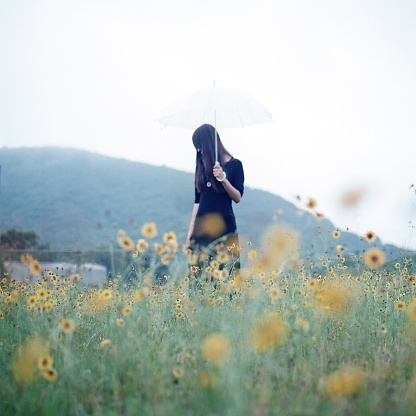em pe: (191, 118, 252, 252)
